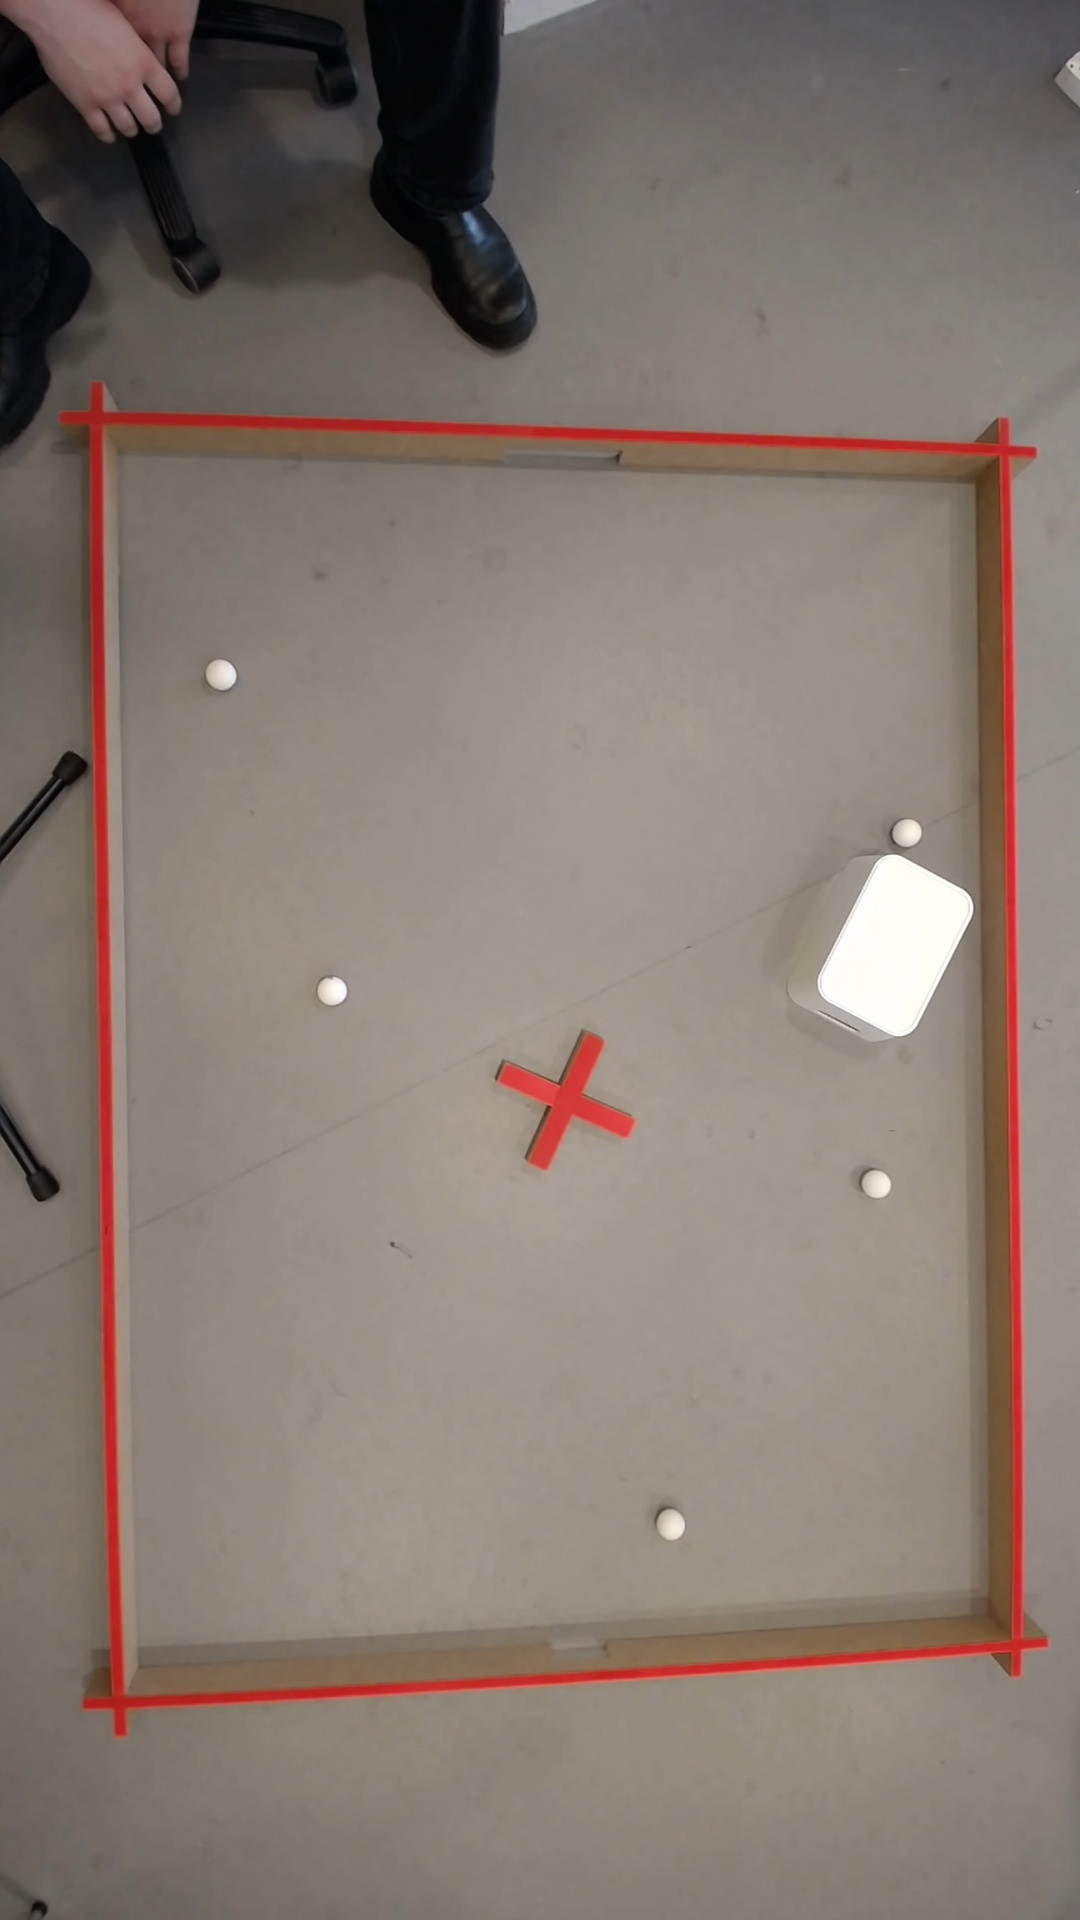balls: (807, 845, 981, 1043), (315, 972, 351, 1007), (657, 1509, 688, 1543), (208, 658, 240, 688), (865, 1168, 894, 1199)
car: (895, 816, 924, 847)
